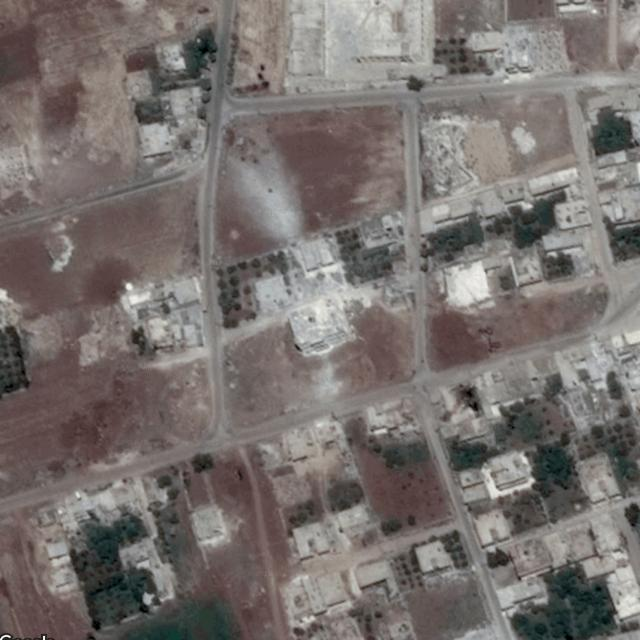damaged_building: (284, 298, 358, 356), (560, 386, 590, 432)
